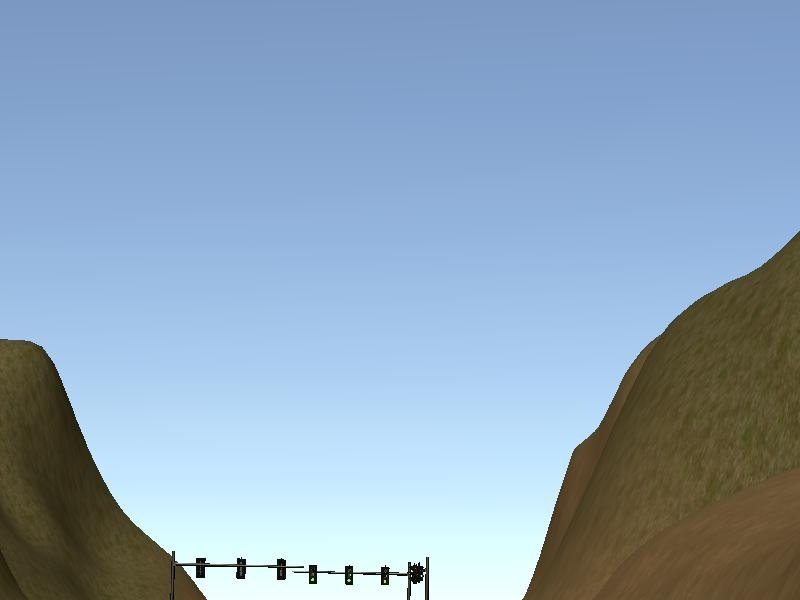traffic_light_green: (297, 563, 408, 586)
